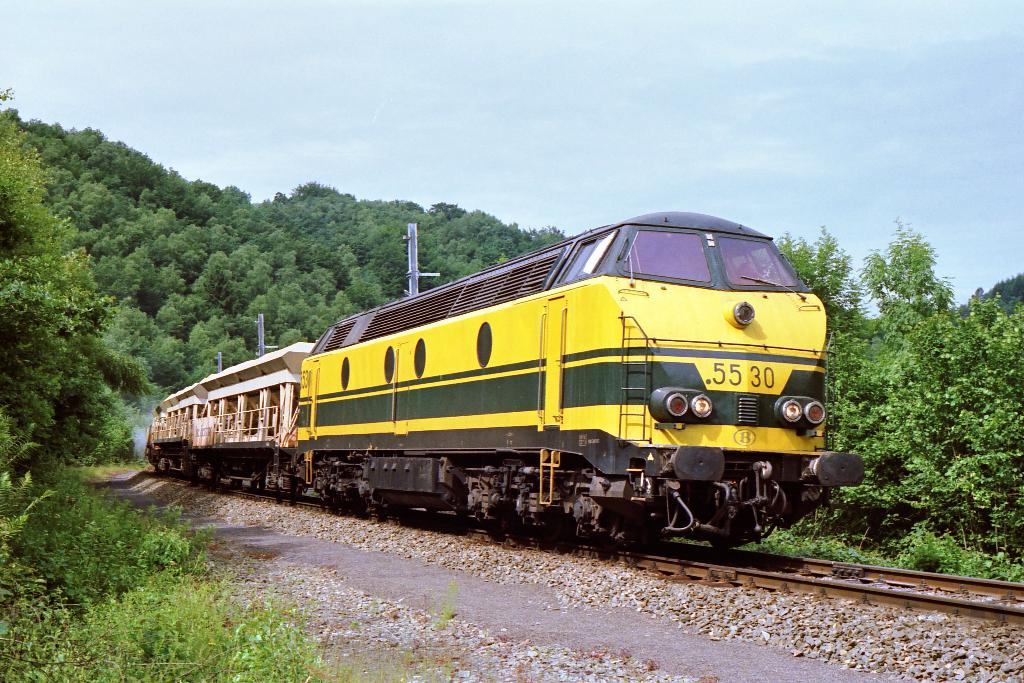train: (145, 208, 864, 546)
